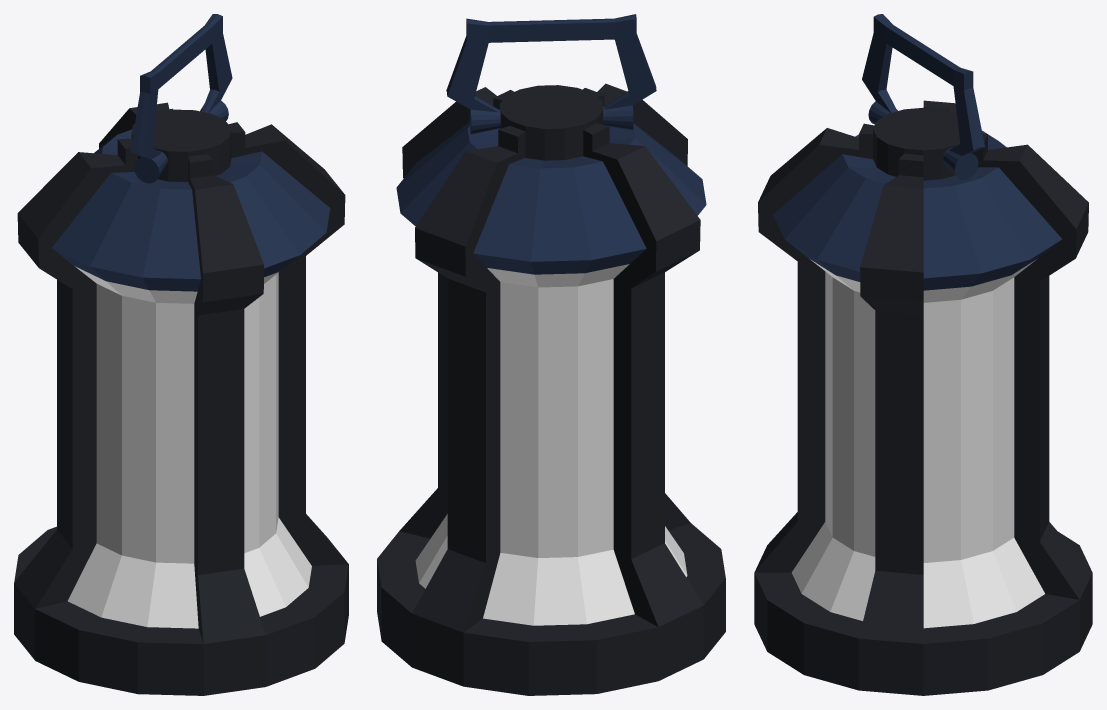
Rendered from Logan's Replacement Lantern LMAO.fbx.
3 views of the same model, side by side, from view 1: azimuth 30°, elevation 25°; view 2: azimuth 150°, elevation 25°; view 3: azimuth 270°, elevation 25° (orthographic). The views are drawn at different scales.
Visible parts, largest first — view 1: Cylinder, Cylinder.001; view 2: Cylinder, Cylinder.001; view 3: Cylinder, Cylinder.001.
Boxes of the visible parts, left/top/right/bottom form: Cylinder: left=14, top=102, right=348, bottom=695; Cylinder.001: left=130, top=14, right=232, bottom=183; Cylinder: left=377, top=83, right=725, bottom=695; Cylinder.001: left=446, top=14, right=656, bottom=134; Cylinder: left=754, top=100, right=1092, bottom=695; Cylinder.001: left=862, top=14, right=984, bottom=179.
Bounding box in the file's own units: 36.58 × 69.38 × 36.58.
